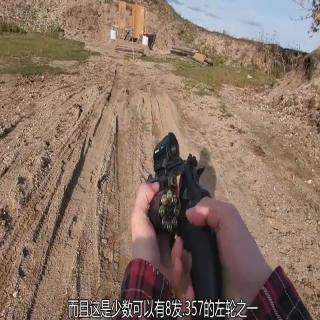gun: (124, 128, 253, 319)
